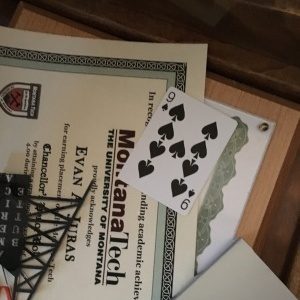card: (118, 85, 236, 215)
